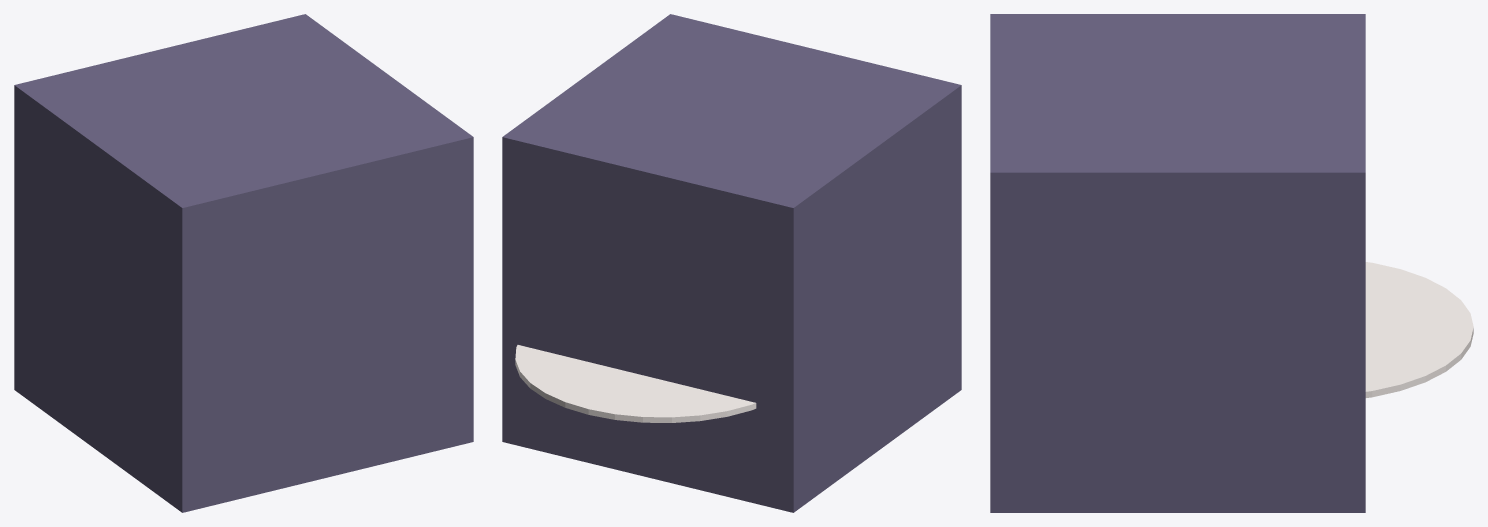
File: hero_scene.glb
3 views of the same model, side by side, from view 1: azimuth 30°, elevation 25°; view 2: azimuth 150°, elevation 25°; view 3: azimuth 270°, elevation 25° (orthographic). The views are drawn at different scales.
Parts seen in each view (by area): view 1: Backdrop; view 2: Backdrop, Floor; view 3: Backdrop, Floor.
Part boxes in pixels (box(x1,y1,x2,y2)): Backdrop: box(14, 14, 473, 512); Backdrop: box(502, 14, 961, 512); Floor: box(515, 345, 756, 422); Backdrop: box(990, 14, 1365, 512); Floor: box(1365, 262, 1473, 397).
Bounding box in the file's own units: 8 × 8 × 10.3.
